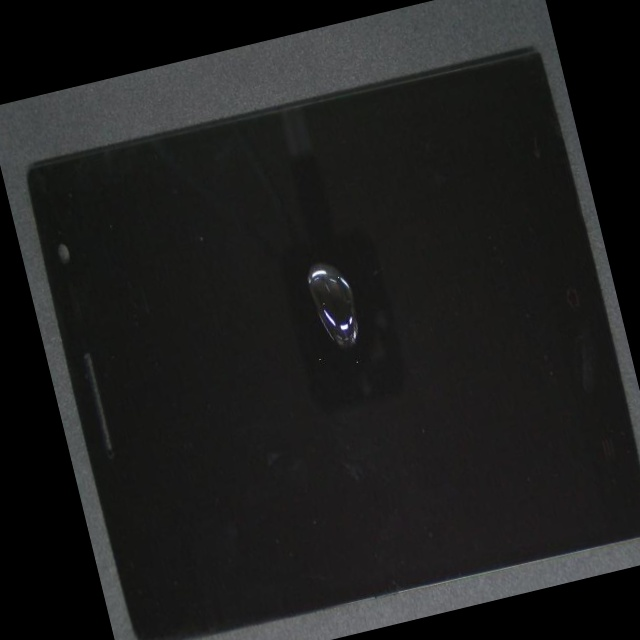oil: (149, 105, 468, 422)
